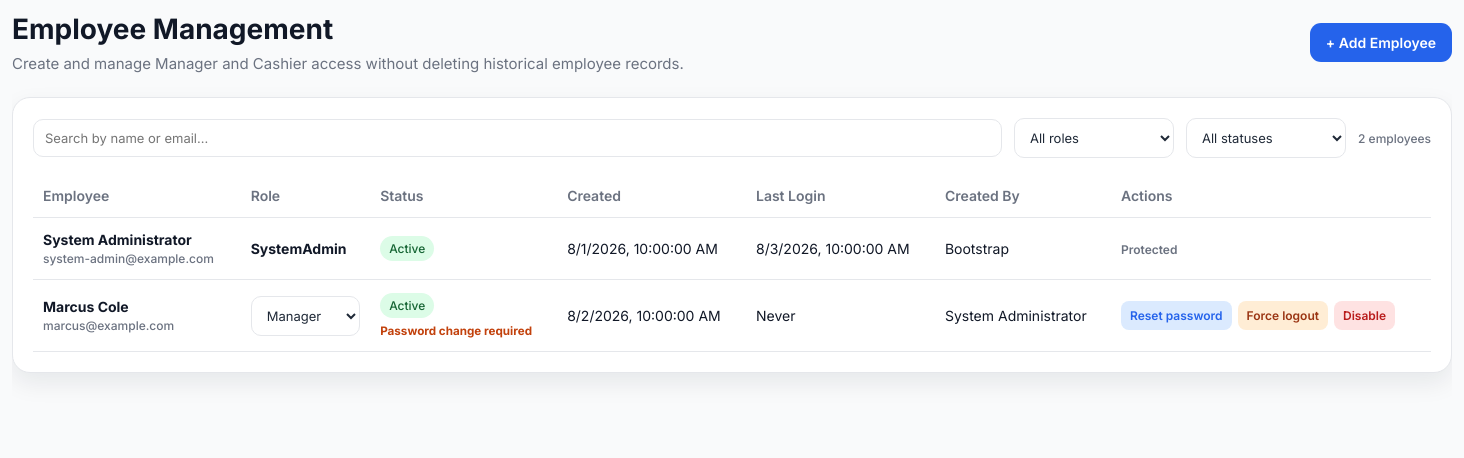
EmployeeManagement › lets SystemAdmin force an employee logout
Check: the text "Marcus Cole" is shown, box left=43, top=298, right=129, bottom=315
What coordinates should you click on to do the following:
click the button "Force logout"
I would click on:
 (1283, 316)
Its box is left=1238, top=301, right=1328, bottom=330.
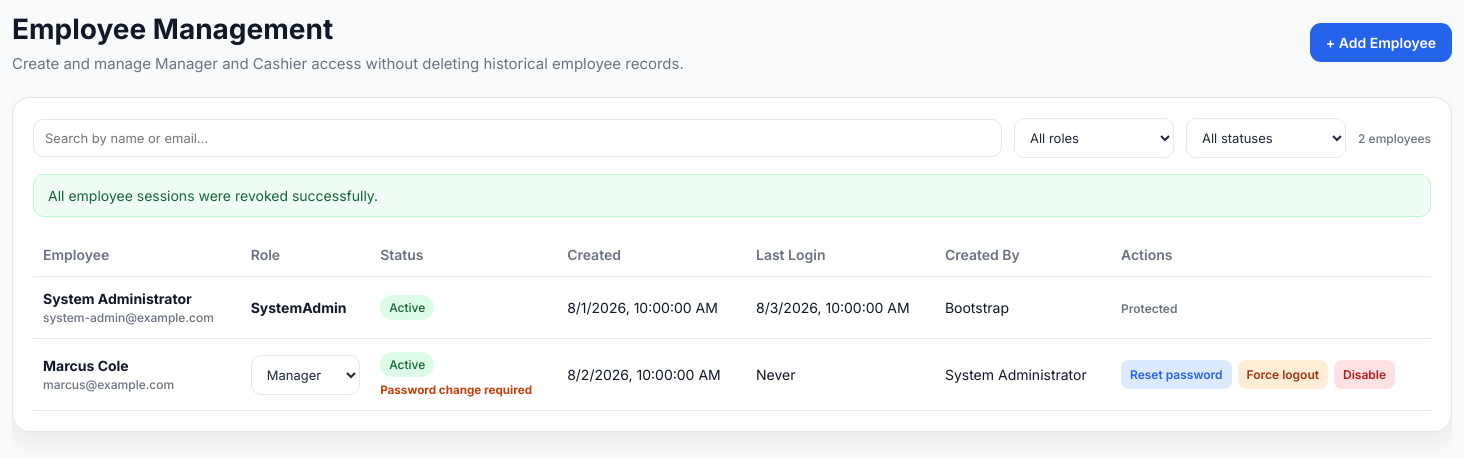
Check: the text "All employee sessions were revoked successfully." is shown, box left=33, top=174, right=1431, bottom=217
